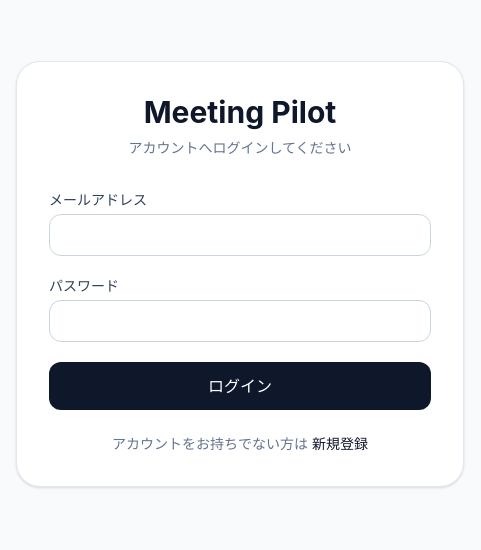
Test: LoginPage › ログイン失敗時にエラーメッセージを表示する
In the field labelled "メールアドレス": (240, 235) [49,214,431,256], type "unknown@example.com"
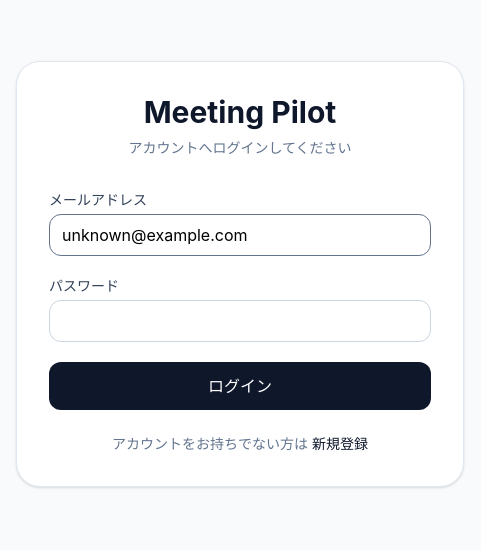
In the password field labelled "パスワード": (240, 321) [49,300,431,342], type "wrong-password"
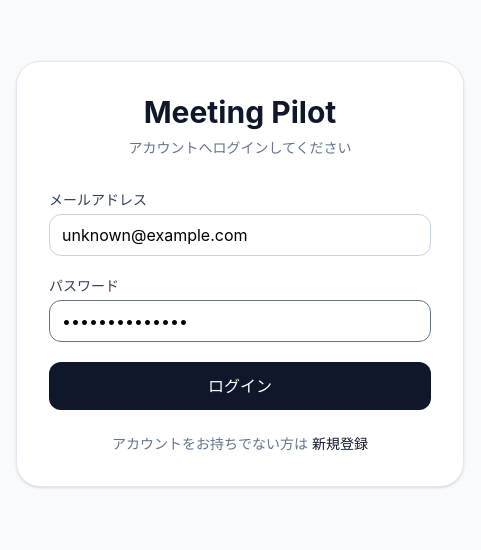
Click the button "ログイン": (240, 386) [49,362,431,410]
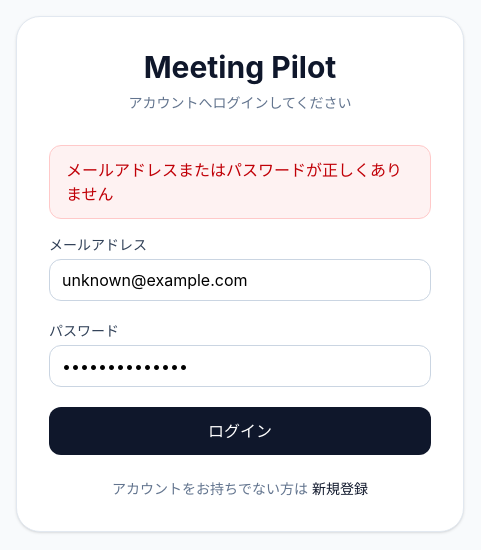
Expected: the text "メールアドレスまたはパスワードが正しくありません" is shown, [49,145,431,219]
